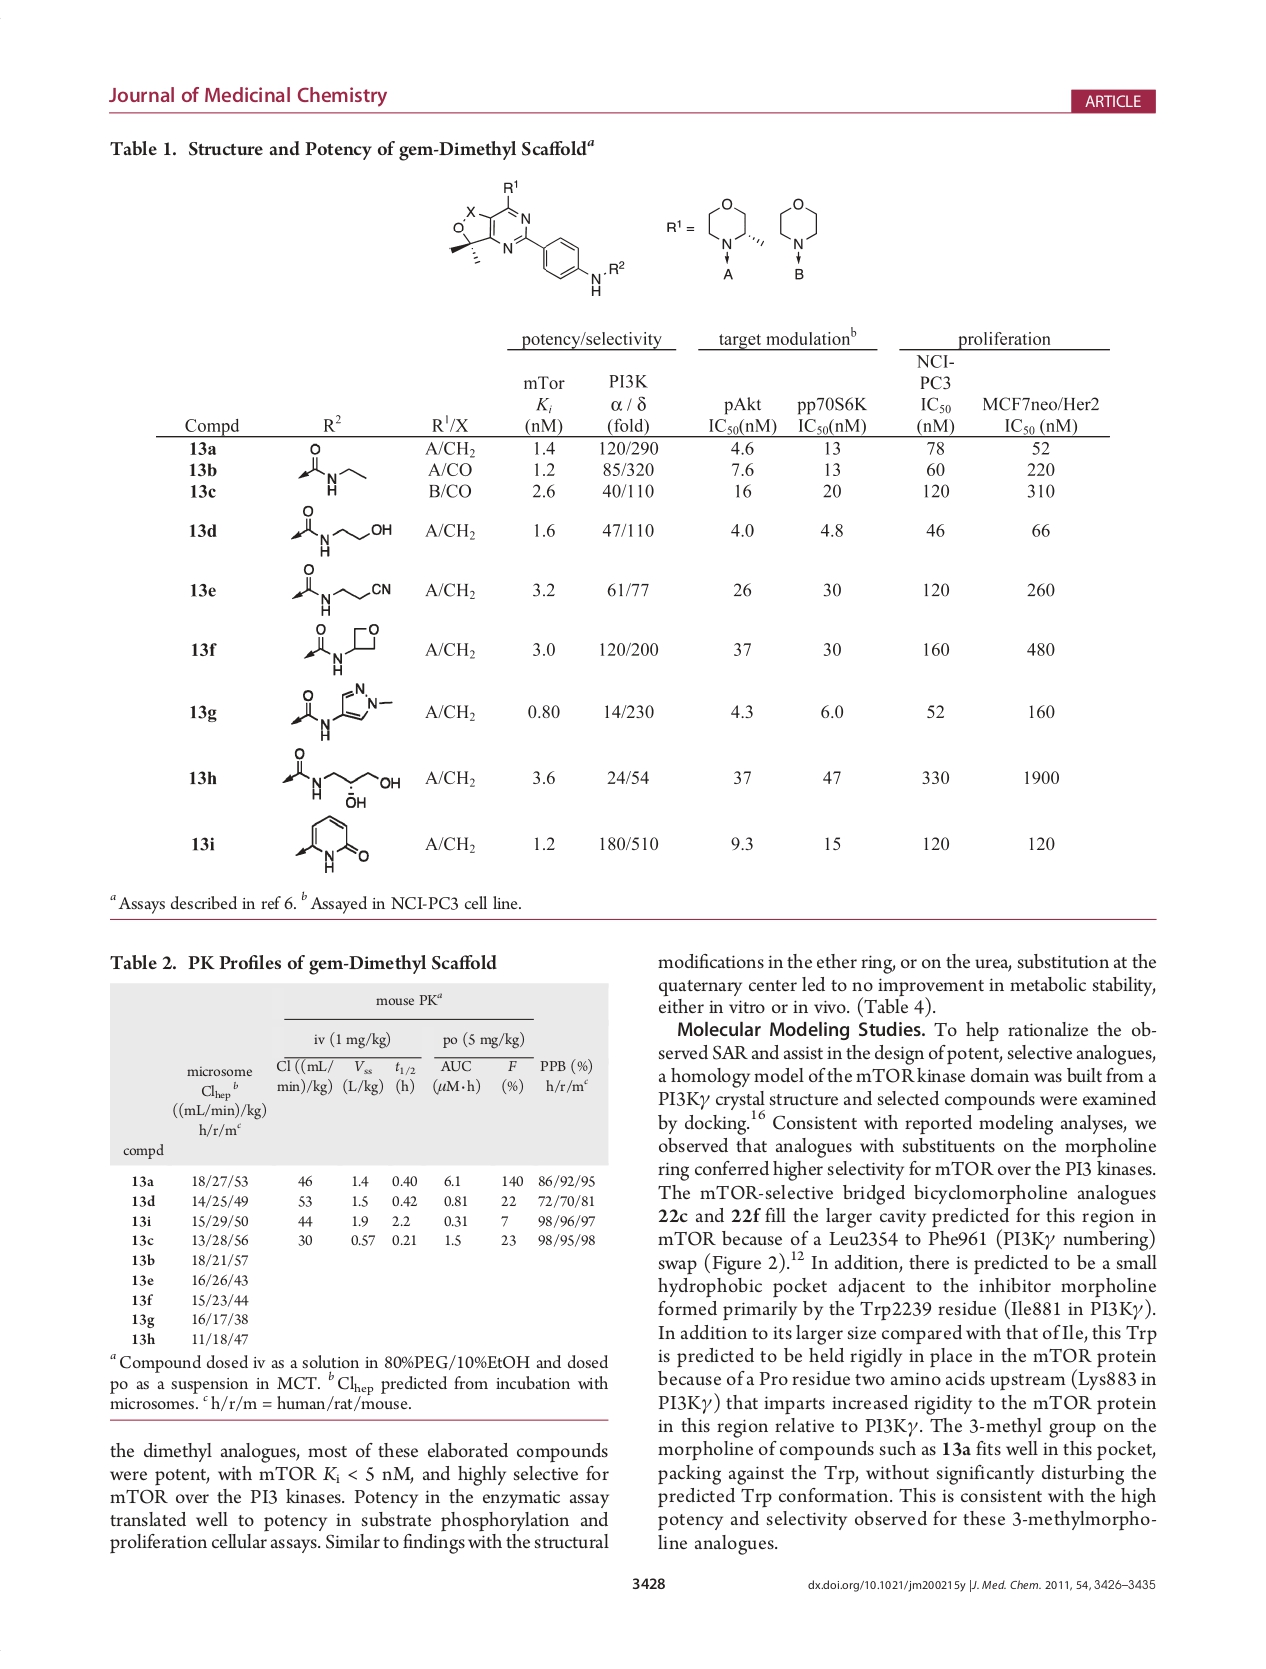exist_molecular: (445, 176, 628, 303), (281, 747, 406, 811), (285, 497, 392, 561), (289, 682, 394, 743), (289, 559, 392, 617), (293, 813, 374, 876), (703, 192, 767, 269), (301, 618, 382, 676), (297, 443, 368, 497), (778, 188, 821, 265)
